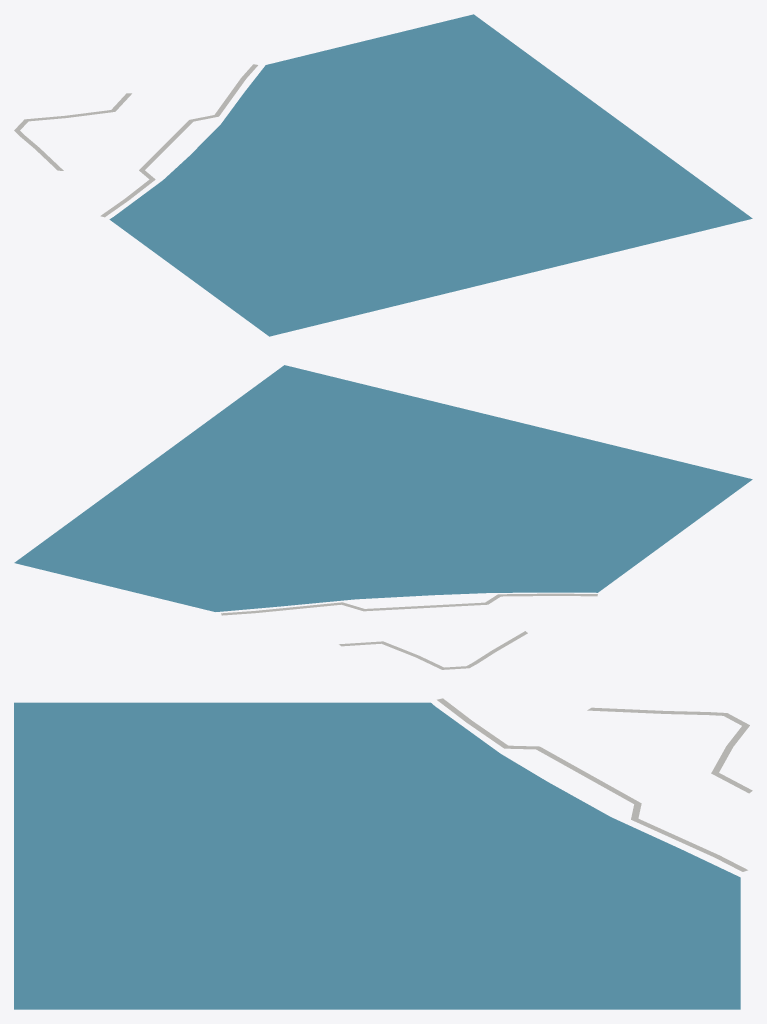
File: tile_-4_7.glb
3 views of the same model, one above another, from view 1: azimuth 30°, elevation 25°; view 2: azimuth 150°, elevation 25°; view 3: azimuth 270°, elevation 25° (orthographic). The views are drawn at different scales.
Visible parts, largest first — view 1: nature_water, roads_sidewalk; view 2: nature_water, roads_sidewalk; view 3: nature_water, roads_sidewalk.
Boxes of the visible parts, x1,y1,x2,y2 form: nature_water: [109, 14, 752, 336]; roads_sidewalk: [14, 64, 257, 217]; nature_water: [14, 365, 752, 611]; roads_sidewalk: [221, 593, 597, 669]; nature_water: [14, 702, 740, 1009]; roads_sidewalk: [437, 698, 752, 871].
Bounding box in the file's own units: 252 × 0.5 × 254.
